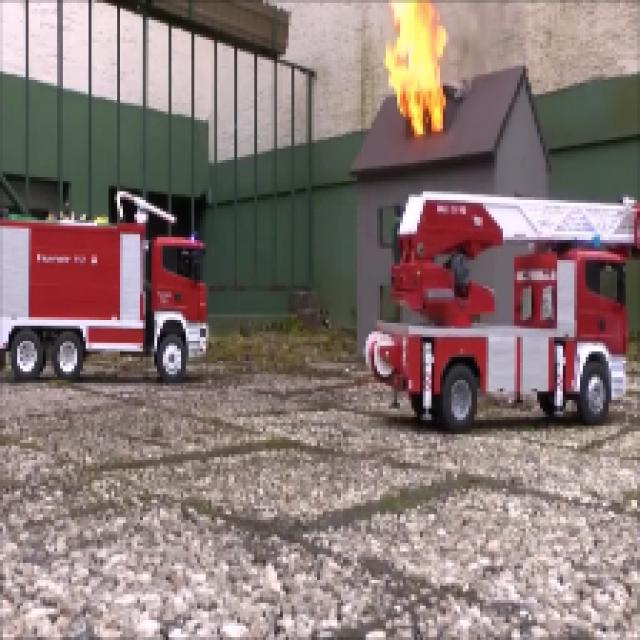fire: (384, 1, 455, 138)
